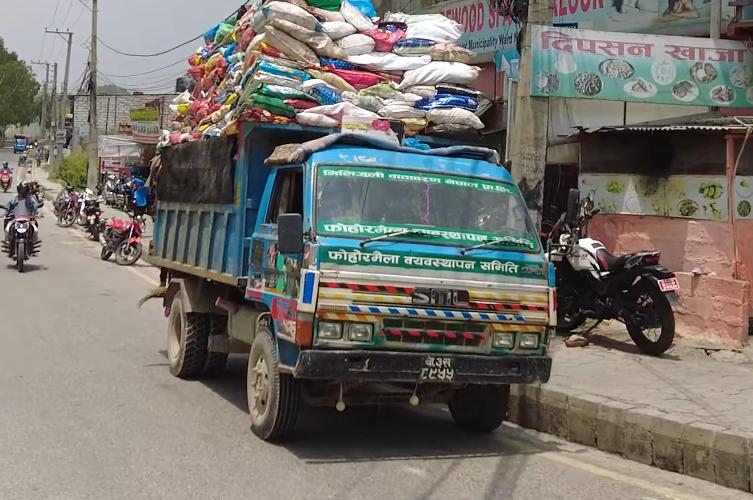bike: (552, 202, 684, 348), (0, 177, 42, 281), (50, 179, 96, 231), (100, 218, 143, 266)
mini_truck: (136, 113, 547, 451)
